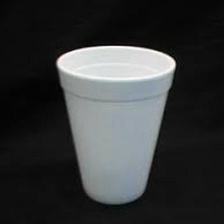paper_cup: (50, 40, 179, 209)
